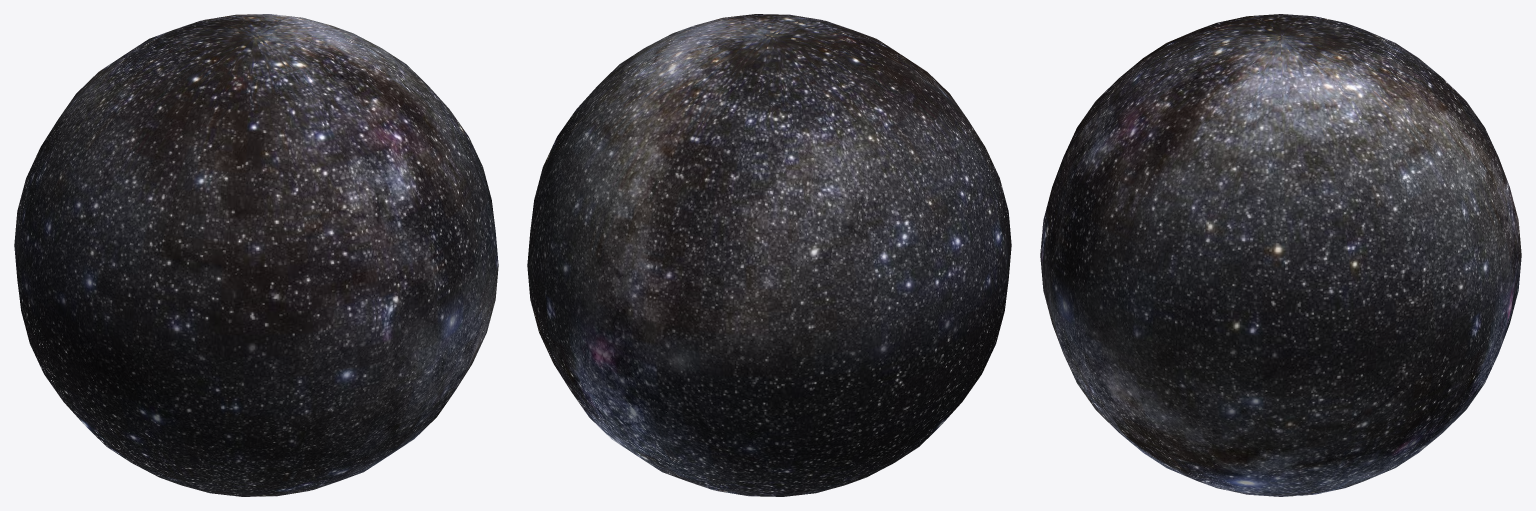
File: invaderscene.fbx
The picture shows the model from 3 angles, left to right: view 1: azimuth 30°, elevation 25°; view 2: azimuth 150°, elevation 25°; view 3: azimuth 270°, elevation 25°; orthographic projection.
Visible parts, largest first — view 1: spacesphere.001, spacesphere; view 2: spacesphere.001, spacesphere; view 3: spacesphere, spacesphere.001.
Boxes of the visible parts, x1=… form: spacesphere.001: x1=14, y1=20, x2=376, y2=496; spacesphere: x1=202, y1=14, x2=498, y2=490; spacesphere.001: x1=649, y1=20, x2=1011, y2=496; spacesphere: x1=527, y1=14, x2=823, y2=490; spacesphere: x1=1040, y1=37, x2=1521, y2=496; spacesphere.001: x1=1040, y1=14, x2=1521, y2=254.
Bounding box in the file's own units: 20200 × 20000 × 20000.
51 materials, 45 textured.
